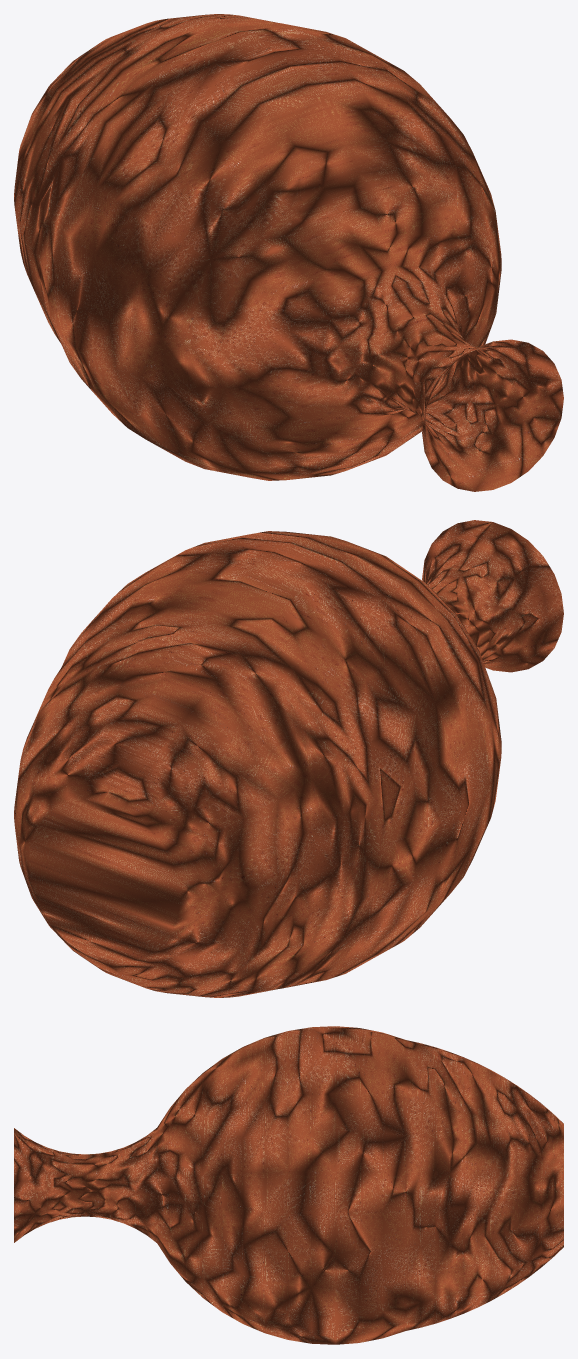
File: model_align.obj
The picture shows the model from 3 angles, top to bottom: view 1: azimuth 30°, elevation 25°; view 2: azimuth 150°, elevation 25°; view 3: azimuth 270°, elevation 25°; orthographic projection. The views are drawn at different scales.
Size of the model in its own units: 0.1256 by 0.1256 by 0.216.
1 material, 1 textured.
